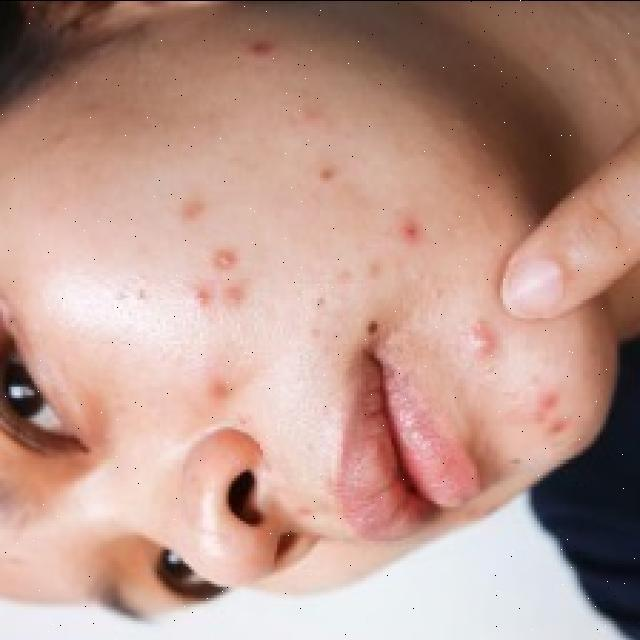Acne: (172, 41, 572, 437)
